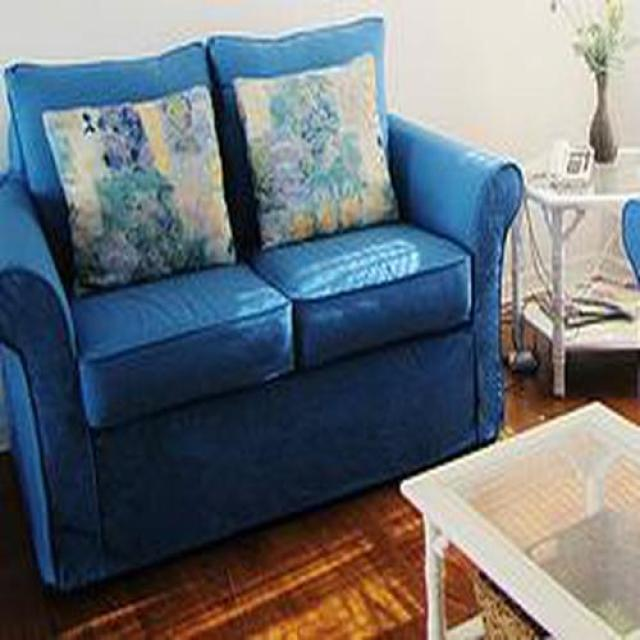sofa: (0, 15, 526, 600)
